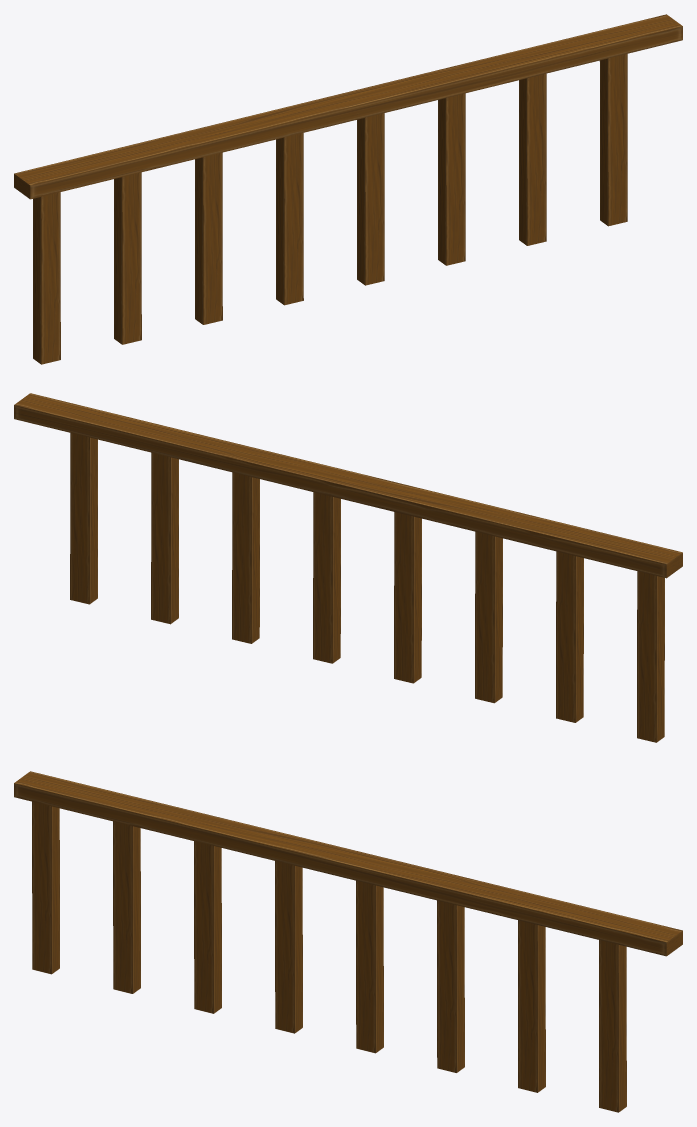
The model's file is SM_Stairs_Interior_C_Handrails_Top_03.fbx.
3 views of the same model, one above another, from view 1: azimuth 30°, elevation 25°; view 2: azimuth 150°, elevation 25°; view 3: azimuth 330°, elevation 25° (orthographic).
Parts seen in each view (by area): view 1: SM_Stairs_Interior_C_Handrails_Top_03; view 2: SM_Stairs_Interior_C_Handrails_Top_03; view 3: SM_Stairs_Interior_C_Handrails_Top_03.
Boxes of the visible parts, x1=… form: SM_Stairs_Interior_C_Handrails_Top_03: x1=14, y1=14, x2=682, y2=364; SM_Stairs_Interior_C_Handrails_Top_03: x1=14, y1=393, x2=682, y2=742; SM_Stairs_Interior_C_Handrails_Top_03: x1=14, y1=771, x2=682, y2=1112.
Size of the model in its own units: 3.38 by 0.9176 by 0.1462.
